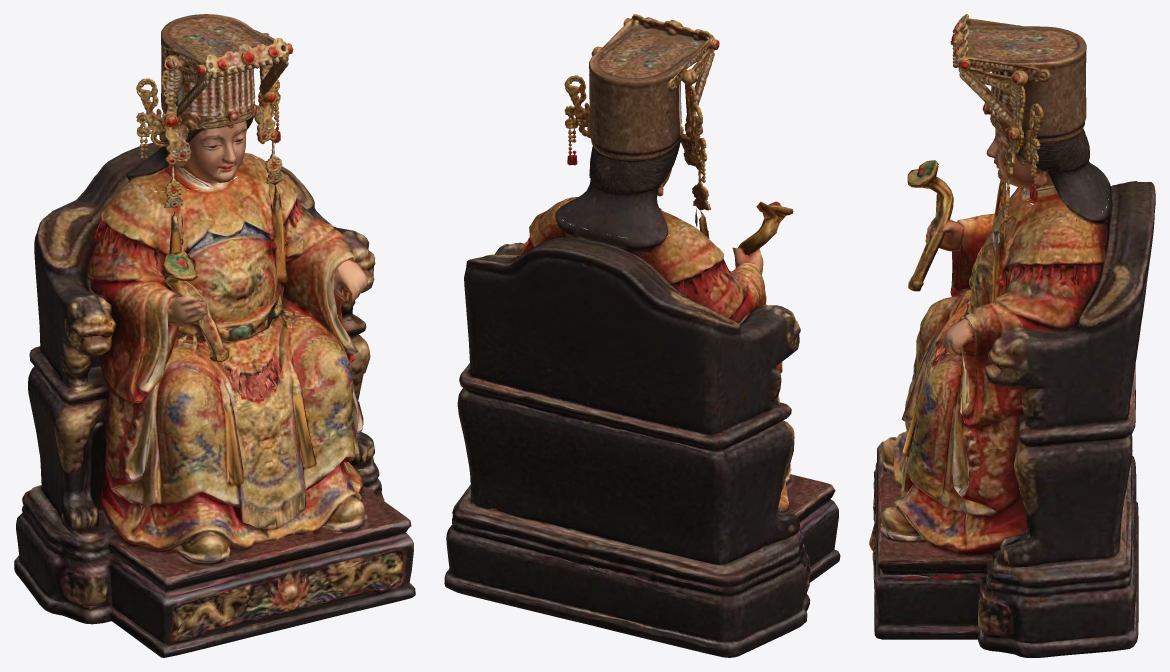
The model's file is mazu-lite.glb.
3 renders of one model, left to right at view 1: azimuth 30°, elevation 25°; view 2: azimuth 150°, elevation 25°; view 3: azimuth 270°, elevation 25°, orthographic.
Bounding box in the file's own units: 0.6242 × 0.9801 × 0.4636.
1 material, 1 textured.
